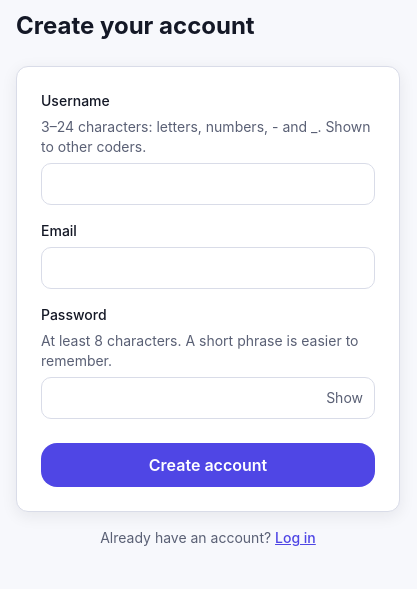
Test: RegisterPage › shows a server-side conflict on the right field
Type "alice" into the field labelled "Username" at (208, 184), box [41,163,375,205]
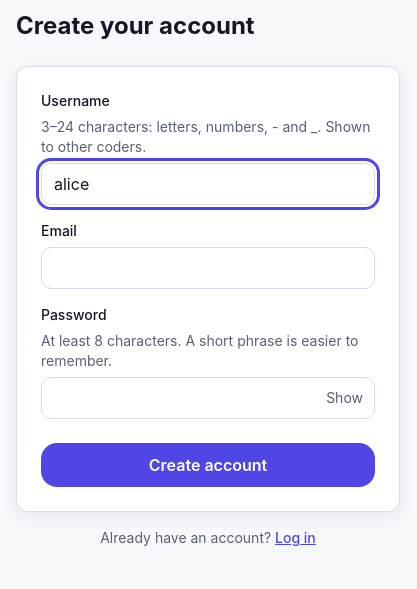
Type "alice@example.com" into the field labelled "Email" at (208, 268), box [41,247,375,289]
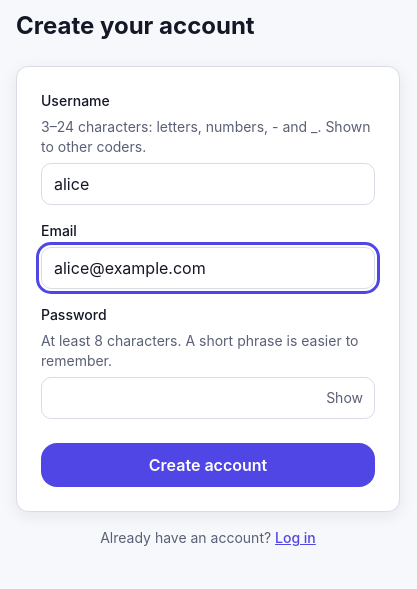
Type "correct horse battery" into the password field labelled "Password" at (208, 398), box [41,377,375,419]
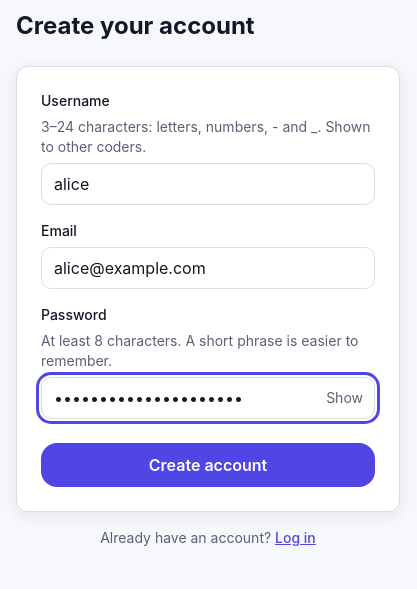
Click the button "Create account" at (208, 465), box [41,443,375,487]
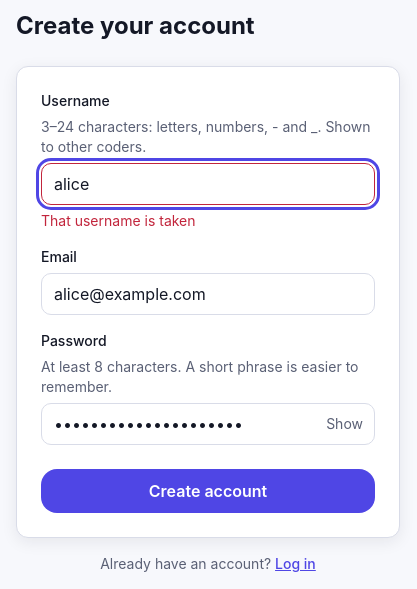
Expected: the text "That username is taken" is shown, [41,212,196,229]
